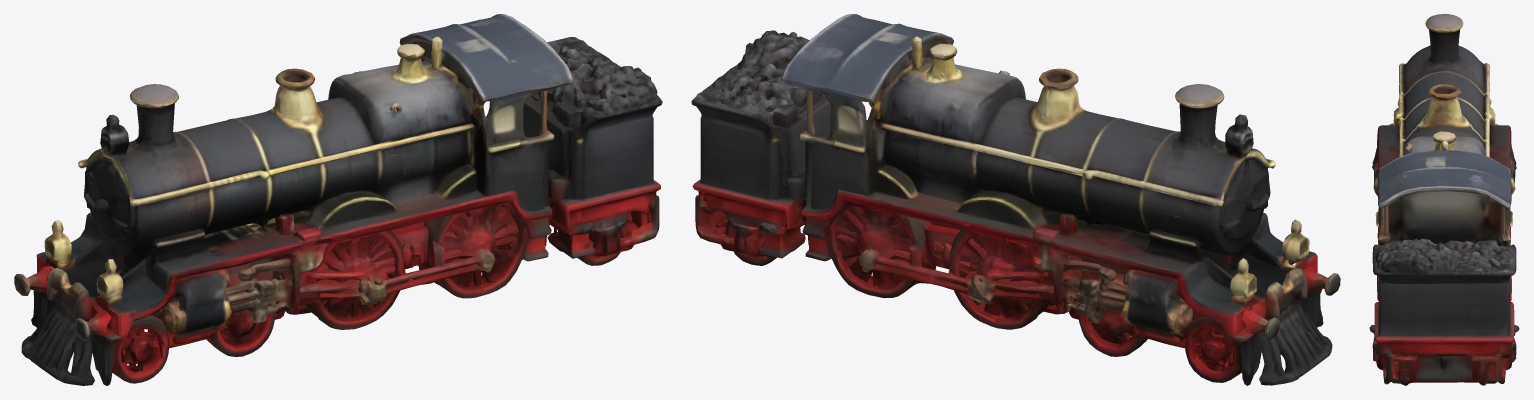
File: locomotive.glb
3 renders of one model, left to right at view 1: azimuth 30°, elevation 25°; view 2: azimuth 150°, elevation 25°; view 3: azimuth 270°, elevation 25°, orthographic. The views are drawn at different scales.
Parts seen in each view (by area): view 1: world; view 2: world; view 3: world.
Part boxes in pixels (left/top/right/bottom): world: left=14, top=14, right=662, bottom=385; world: left=691, top=14, right=1340, bottom=385; world: left=1369, top=14, right=1519, bottom=385.
Size of the model in its own units: 0.65 by 0.2744 by 0.1816.
1 material, 1 textured.
